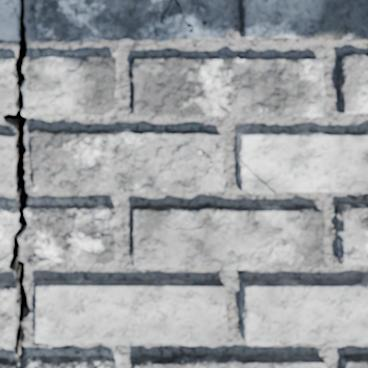brick: (35, 279, 226, 345), (130, 205, 324, 269), (130, 56, 325, 117), (30, 130, 224, 191), (240, 279, 367, 345), (238, 131, 367, 193), (35, 0, 228, 41), (240, 0, 367, 39), (134, 354, 325, 367), (335, 203, 367, 265), (337, 54, 367, 112), (0, 282, 16, 347), (0, 134, 14, 192), (0, 0, 19, 39), (199, 133, 223, 159), (341, 354, 367, 367)
broken_brick: (20, 204, 115, 266), (22, 55, 116, 117), (26, 354, 117, 367), (0, 206, 18, 268), (0, 57, 14, 118), (0, 357, 14, 367)
crack: (2, 0, 30, 367), (188, 133, 224, 175), (239, 159, 276, 193), (158, 0, 193, 33), (290, 59, 303, 68)
